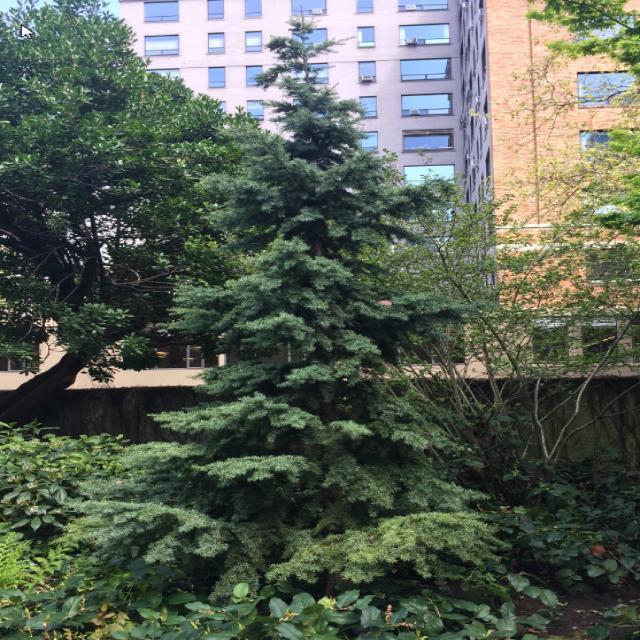Tsuga mertensiana: (49, 2, 512, 599)
